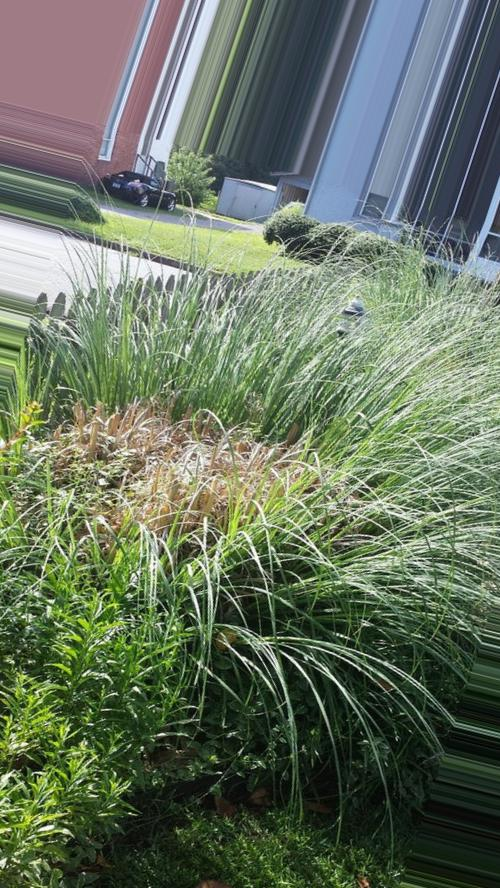patch: (73, 435, 254, 510)
